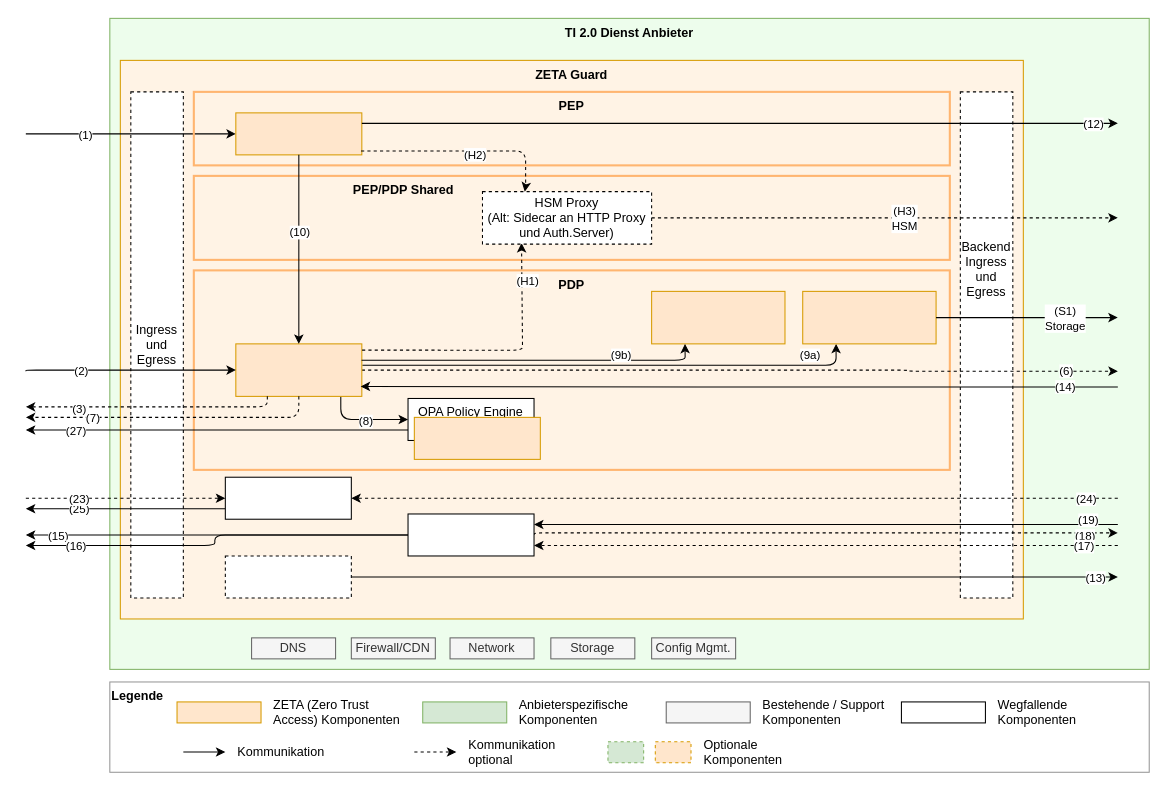
The diagram is 1168 pixels wide and 791 high, and some of its shapes have lost their labels. Each missing label, with the centre of its shape:
Authorization Server: point 298,369
HTTP Proxy: point 298,133
Infinispan (PDP sync): point 718,317
Management Service: point 287,576
Notification Service: point 287,497
OPA Policy Engine (prod only): point 476,437
Postgres (PDP User/Client/Session): point 869,317
Telemetrie-Daten Service: point 470,534
